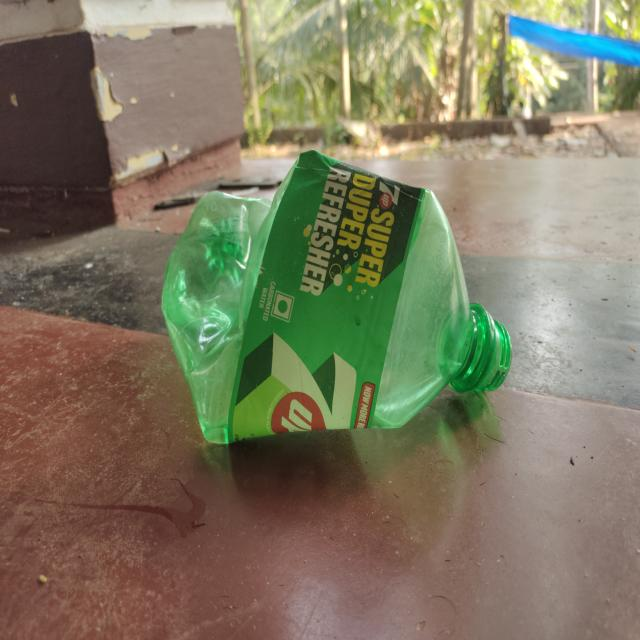plastic: (163, 147, 513, 441)
